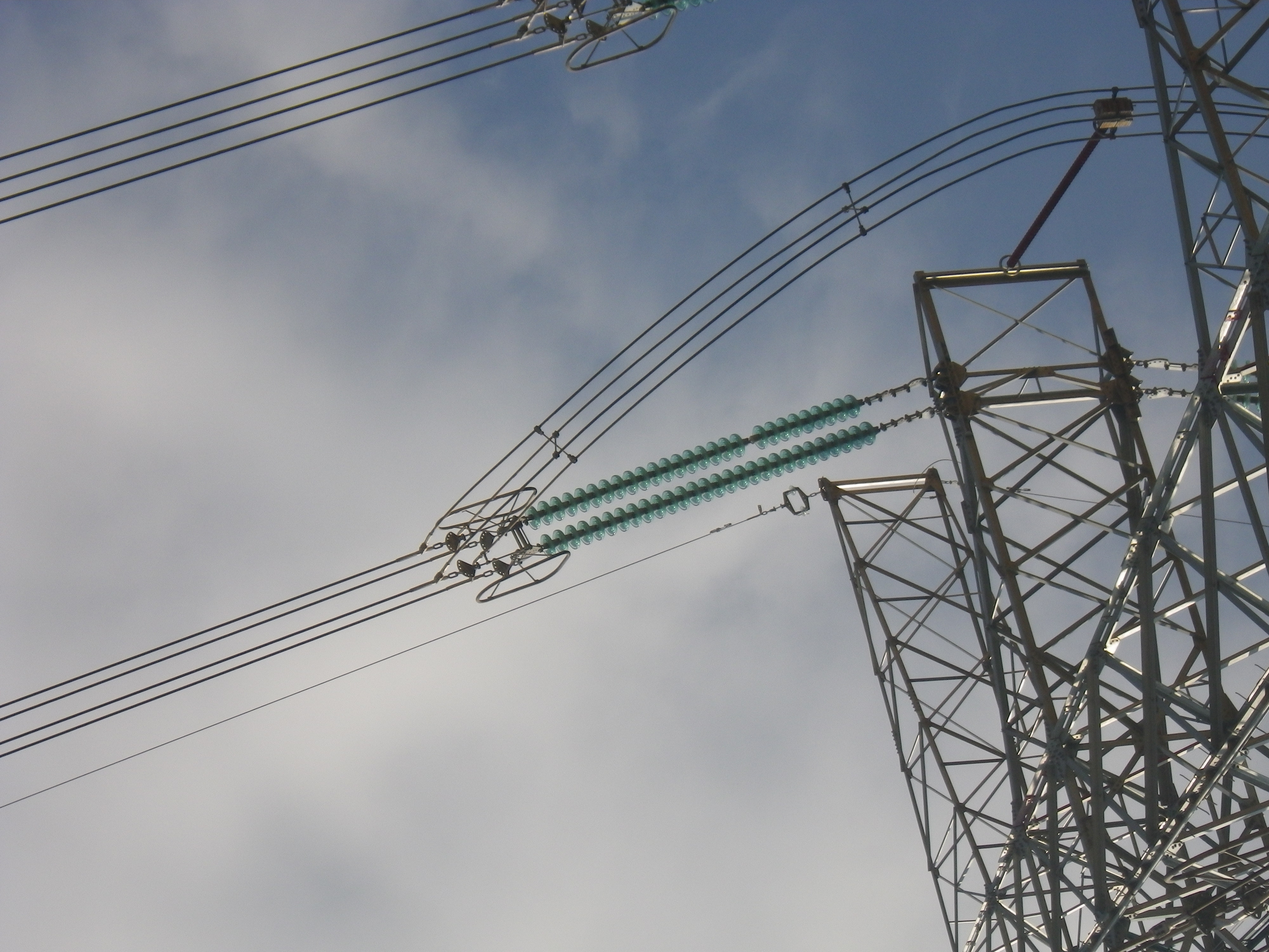绝缘子自爆区域: (743, 429, 757, 453)
